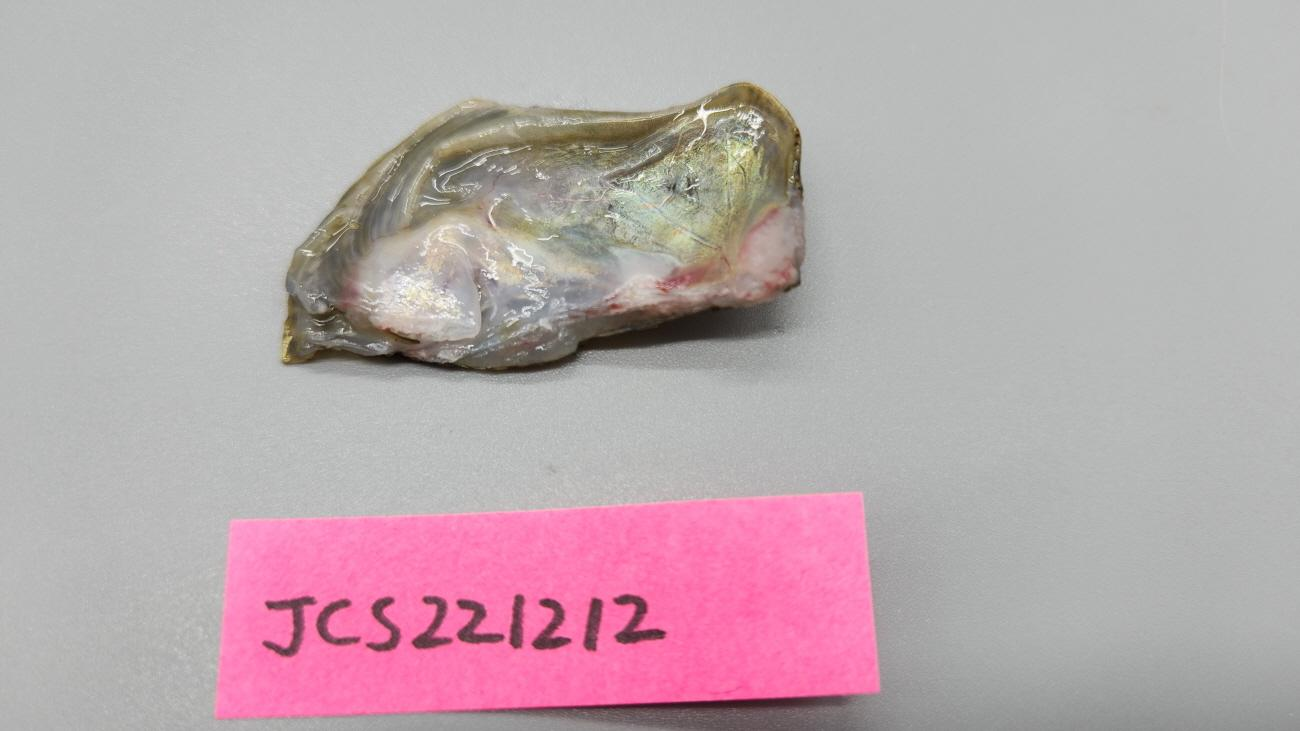POGCN: (281, 81, 807, 371)
